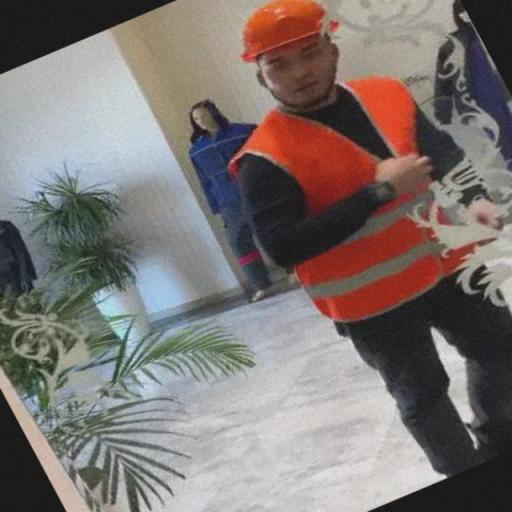Person: (212, 4, 512, 490)
helmet: (238, 1, 336, 59)
vest: (233, 70, 476, 327)
